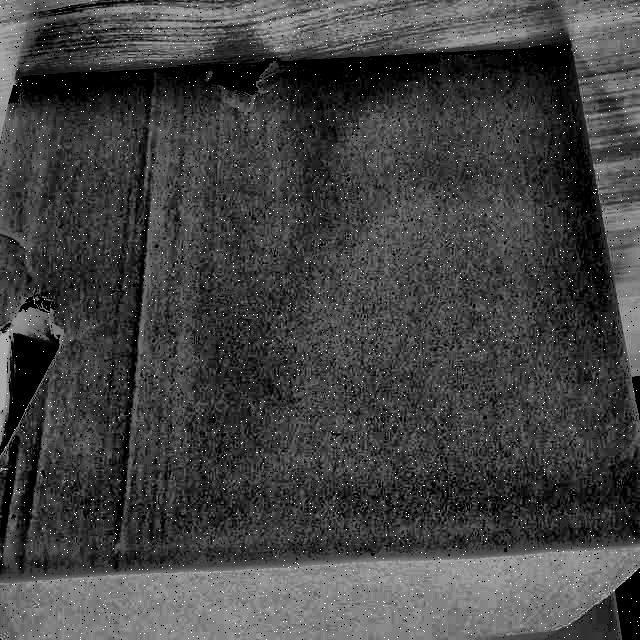box: (1, 30, 640, 640)
hole: (0, 294, 65, 466), (206, 66, 274, 108)
